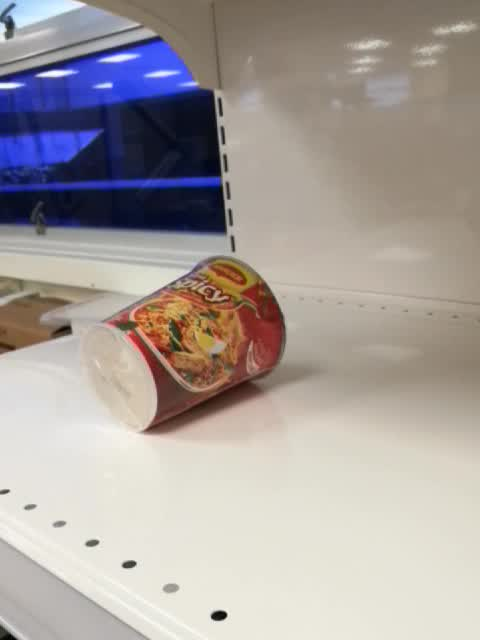maggi: (79, 255, 287, 436)
